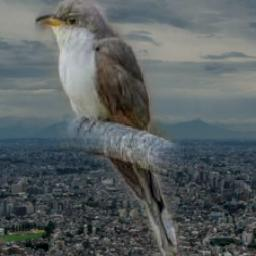Cuckoo: (35, 0, 184, 256)
